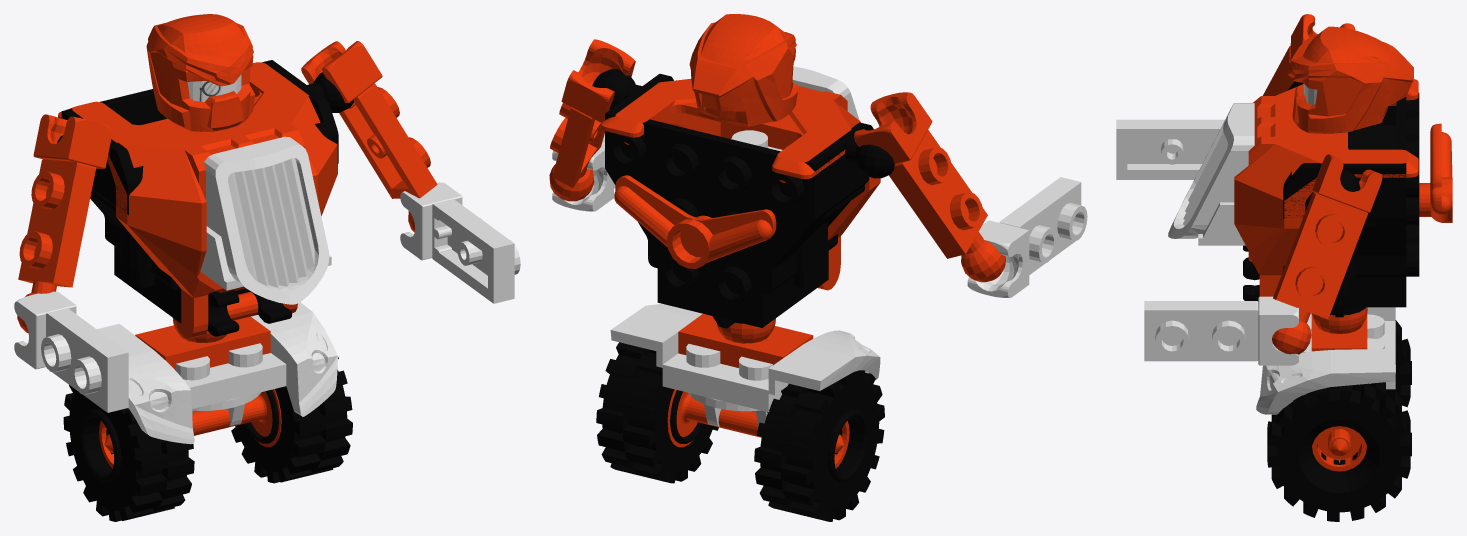
Rendered from robot.dae.
The picture shows the model from 3 angles, left to right: view 1: azimuth 30°, elevation 25°; view 2: azimuth 150°, elevation 25°; view 3: azimuth 270°, elevation 25°; orthographic projection. The views are drawn at different scales.
Parts seen in each view (by area): view 1: Part_27167.1, Part_10885.2, Part_44674.12, Part_27168.3, Part_14419.5, Part_4084.9, Part_11265.13, Part_14419.4, Part_14418.15, Part_14418.7, Part_4084.8, Part_70942.6 (+3 smaller); view 2: Part_27168.3, Part_4084.9, Part_44674.12, Part_14419.5, Part_27167.1, Part_4084.8, Part_11265.13, Part_14418.15, Part_25892.14, Part_14419.4, Part_70942.6, Part_24869.10 (+3 smaller); view 3: Part_4084.8, Part_27168.3, Part_27167.1, Part_11265.13, Part_14419.4, Part_14418.7, Part_44674.12, Part_10885.2, Part_14418.15, Part_25892.14, Part_70942.6, Part_24869.10 (+2 smaller).
Boxes of the visible parts, <box> form: Part_27167.1: <box>58,62,337,338</box>; Part_10885.2: <box>200,136,331,304</box>; Part_44674.12: <box>97,302,337,444</box>; Part_27168.3: <box>57,60,353,336</box>; Part_14419.5: <box>17,114,112,333</box>; Part_4084.9: <box>63,385,194,521</box>; Part_11265.13: <box>146,14,255,131</box>; Part_14419.4: <box>301,41,437,232</box>; Part_14418.15: <box>14,291,128,412</box>; Part_14418.7: <box>400,182,520,303</box>; Part_4084.8: <box>231,357,352,483</box>; Part_70942.6: <box>135,316,270,370</box>; Part_27168.3: <box>592,69,894,328</box>; Part_4084.9: <box>754,370,884,521</box>; Part_44674.12: <box>610,303,880,412</box>; Part_14419.5: <box>854,92,1005,282</box>; Part_27167.1: <box>601,79,880,290</box>; Part_4084.8: <box>596,342,718,483</box>; Part_11265.13: <box>689,14,797,126</box>; Part_14418.15: <box>967,177,1087,297</box>; Part_25892.14: <box>614,175,776,268</box>; Part_14419.4: <box>549,39,635,201</box>; Part_70942.6: <box>678,313,813,367</box>; Part_24869.10: <box>667,389,849,468</box>; Part_4084.8: <box>1267,382,1411,521</box>; Part_27168.3: <box>1243,81,1419,317</box>; Part_27167.1: <box>1234,79,1418,296</box>; Part_11265.13: <box>1287,26,1413,133</box>; Part_14419.4: <box>1272,154,1382,354</box>; Part_14418.7: <box>1144,296,1298,365</box>; Part_44674.12: <box>1256,307,1395,414</box>; Part_10885.2: <box>1168,103,1254,245</box>; Part_14418.15: <box>1116,119,1224,179</box>; Part_25892.14: <box>1419,123,1452,222</box>; Part_70942.6: <box>1311,307,1367,351</box>; Part_24869.10: <box>1312,426,1366,471</box>.
Bounding box in the file's own units: 67.99 × 68.03 × 47.71.
